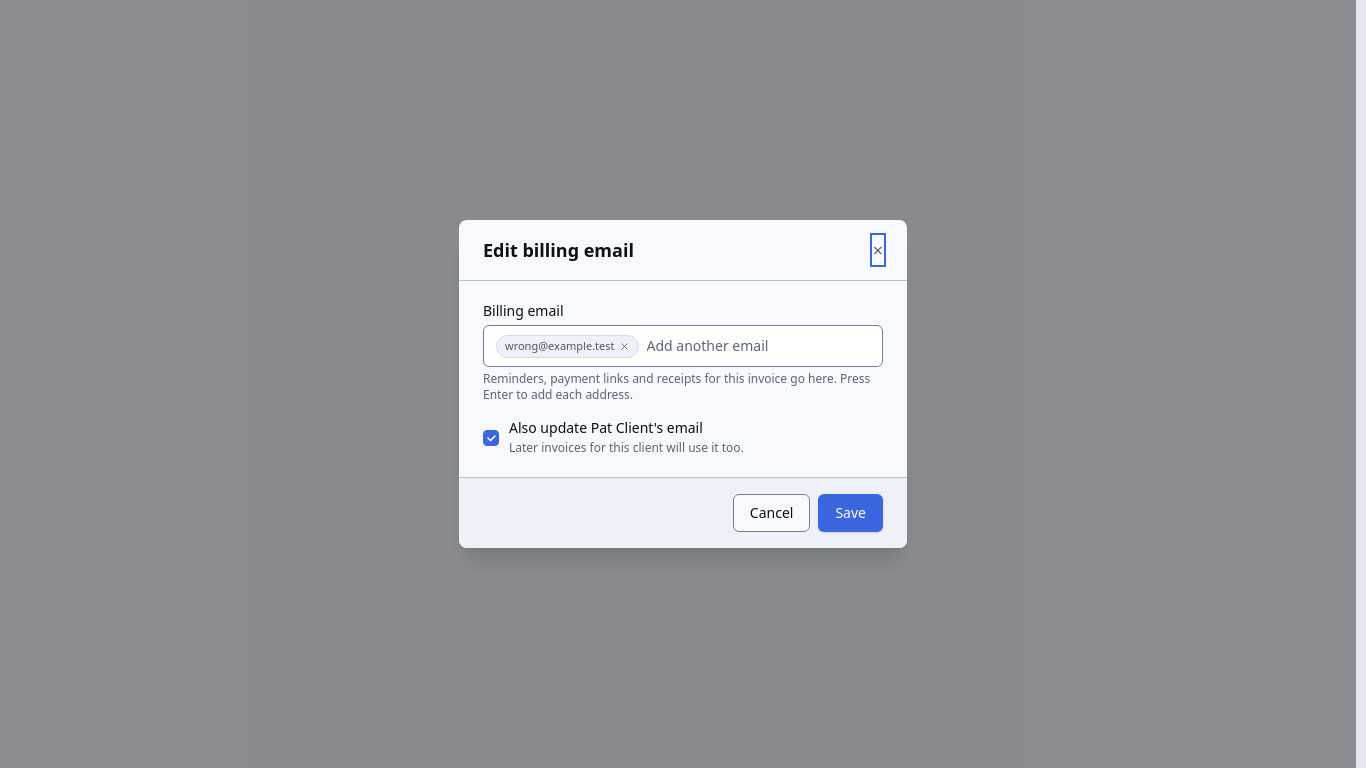
Test case: leaves an invalid address in the field instead of turning it into a chip
This screenshot has width=1366, height=768.
In the field labelled "Billing email": (758, 346) [646,334,870,358], type "not-an-email"
Then press Enter
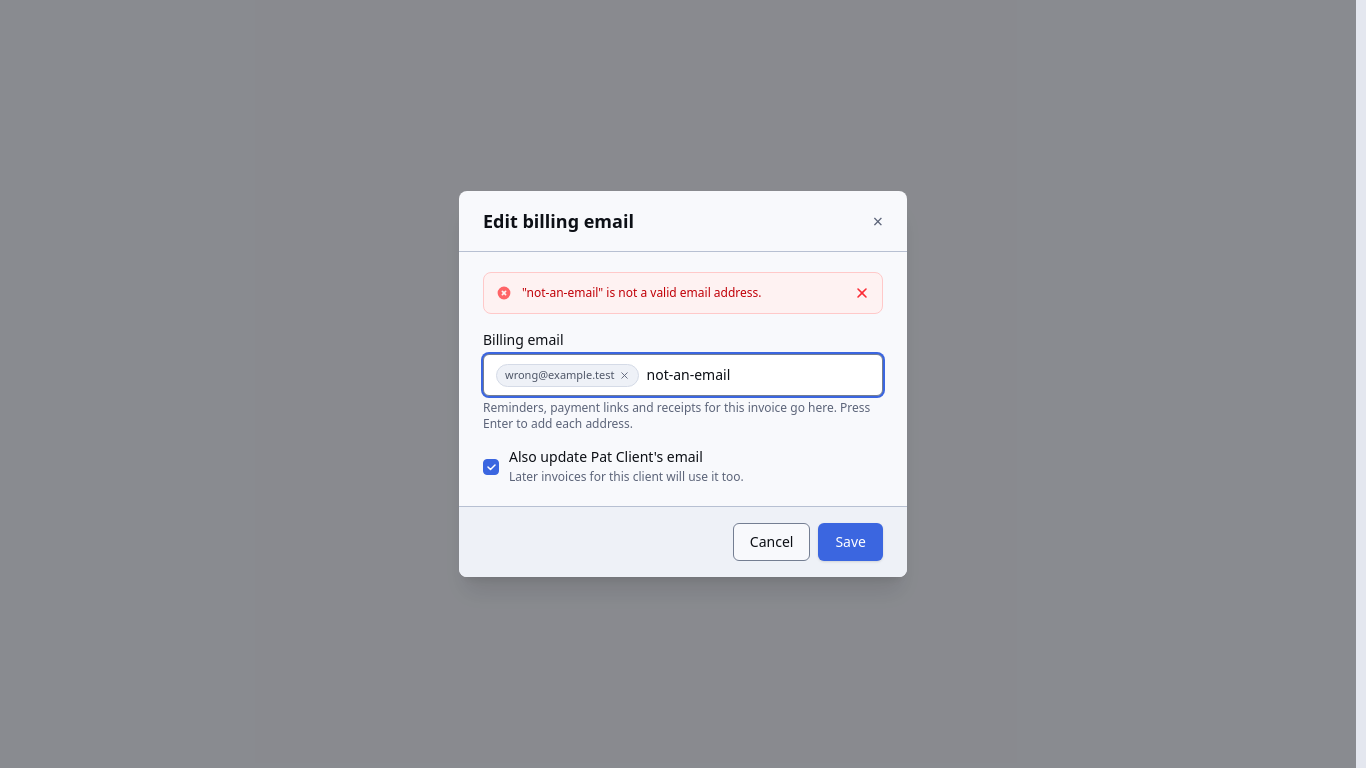
Now the text "\"not-an-email\" is not a valid email address." is shown, box [522,284,762,301]
